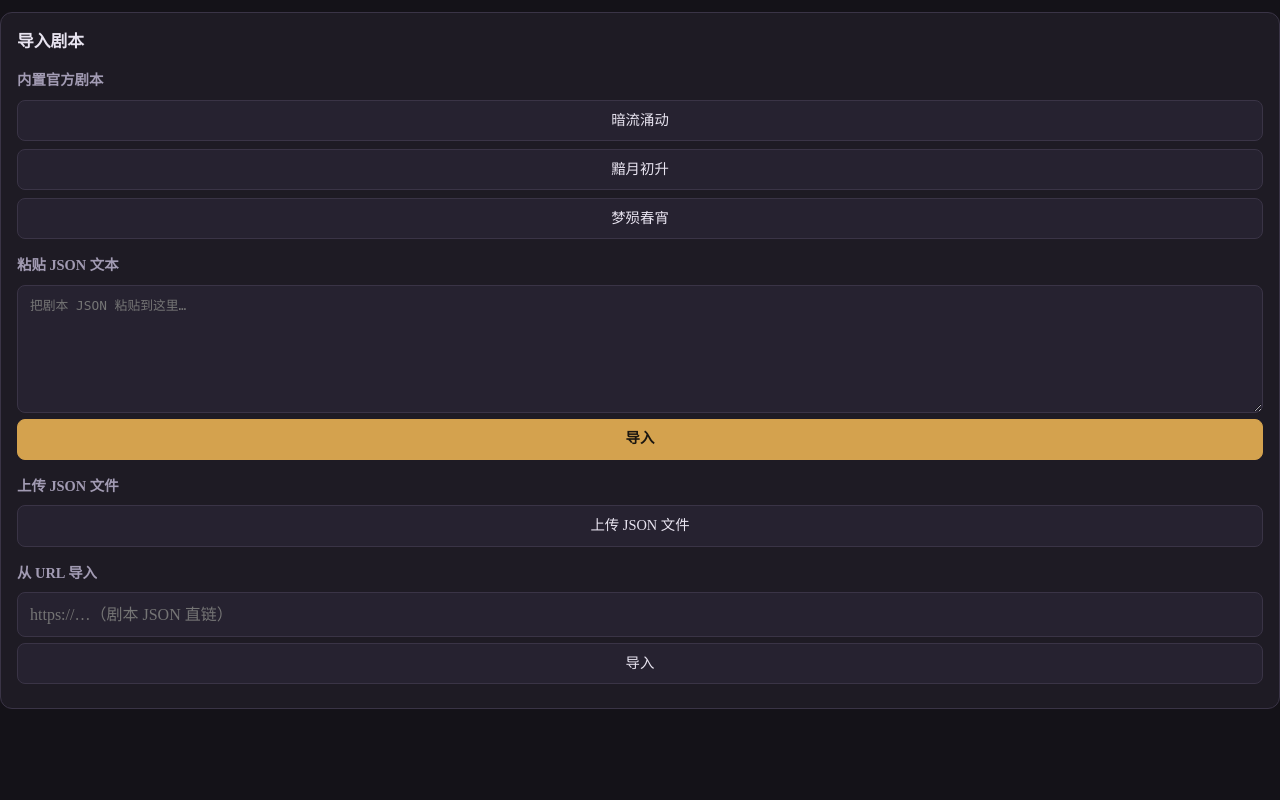
Scenario: ScriptImport（F-01） › 粘贴导入失败：展示中文错误
The image size is (1280, 800).
Type "这不是json" into the text box with placeholder "把剧本 JSON 粘贴到这里…" at (640, 349), box [17,285,1263,413]
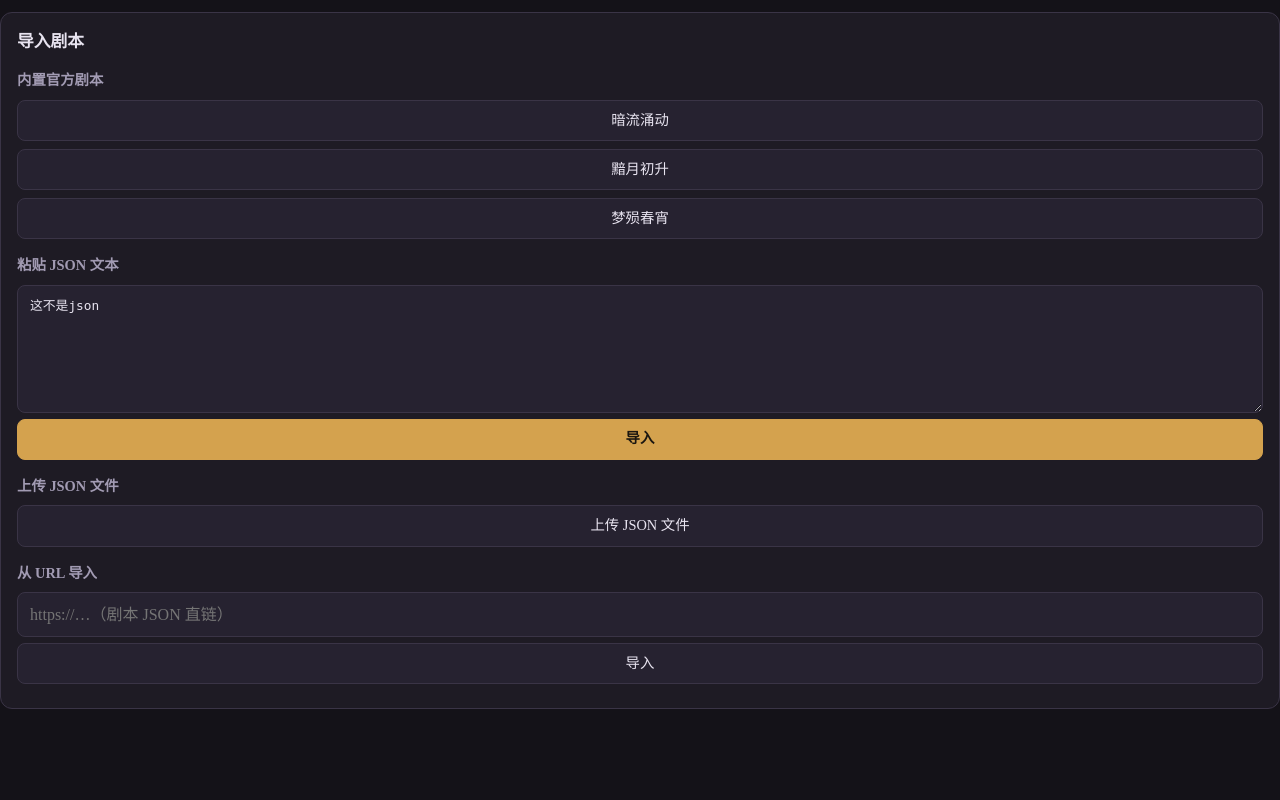
Click the 1st button "导入" at (640, 439), box [17,419,1263,460]
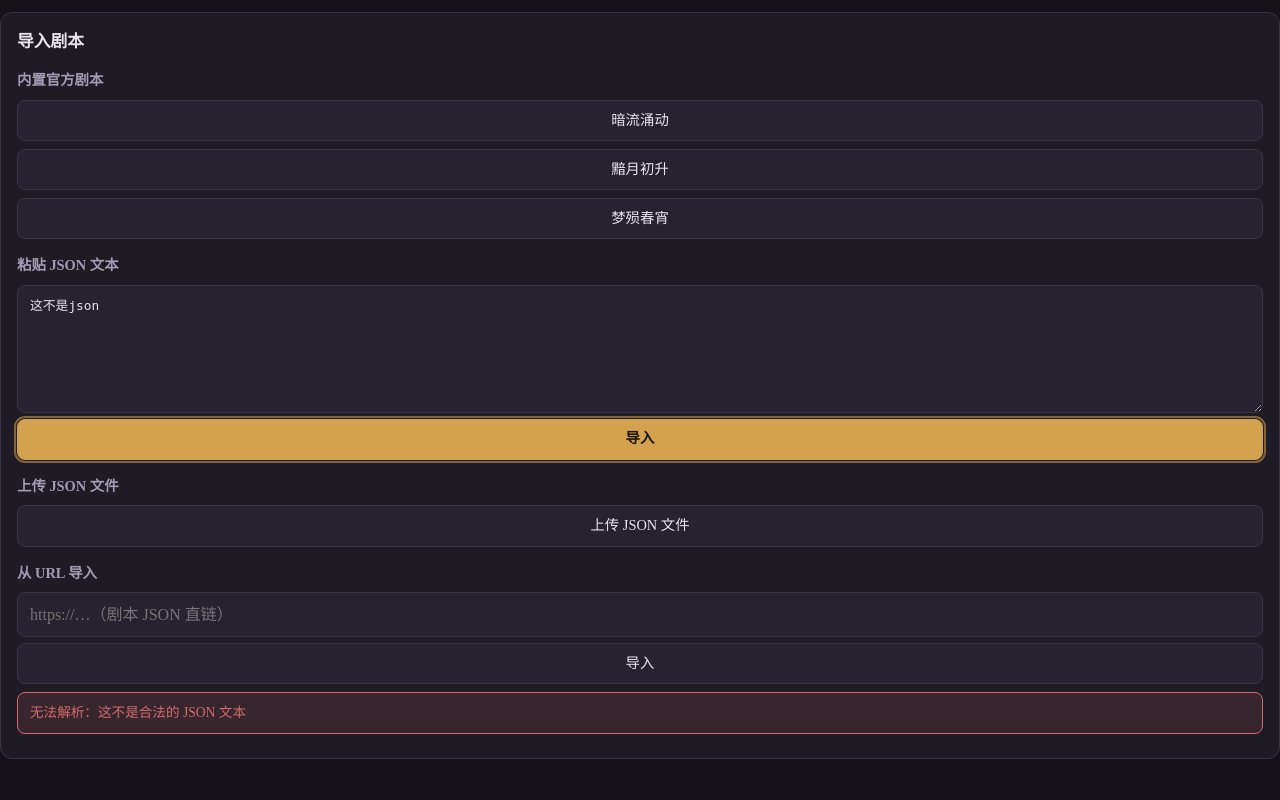
Result: the message shows "无法解析" at [30,705,246,720]
